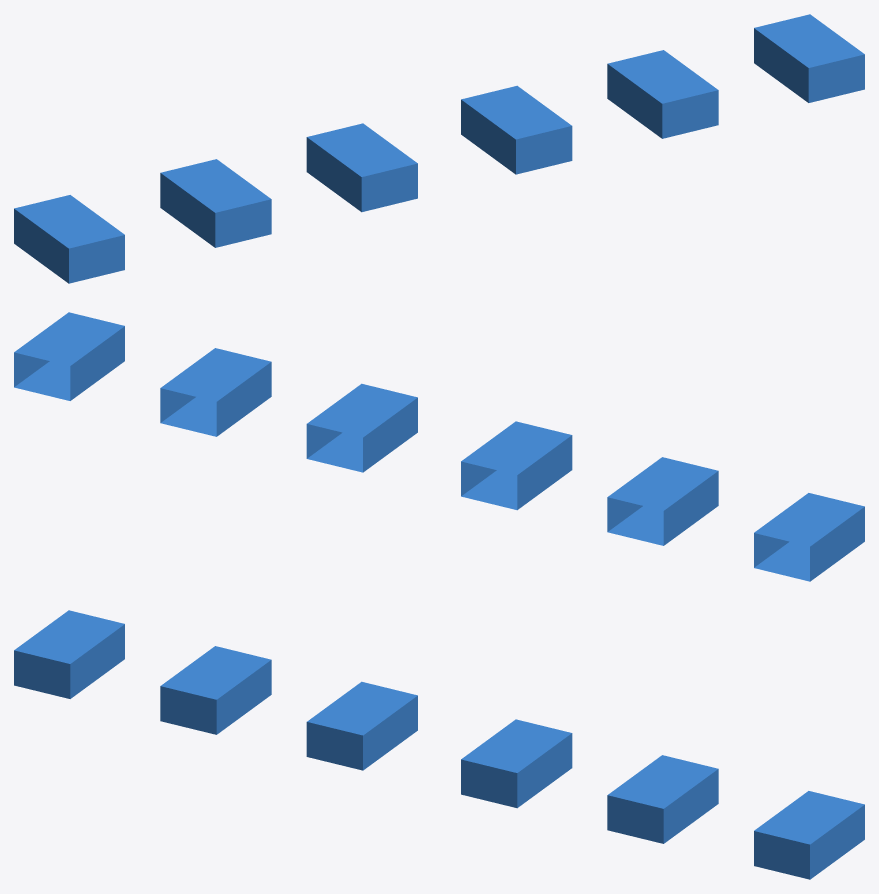
Rendered from Collision_Roof_FrontSupports.fbx.
The picture shows the model from 3 angles, top to bottom: view 1: azimuth 30°, elevation 25°; view 2: azimuth 150°, elevation 25°; view 3: azimuth 330°, elevation 25°; orthographic projection.
Visible parts, largest first — view 1: UCX_Roof_FrontSupports_1; view 2: UCX_Roof_FrontSupports_1; view 3: UCX_Roof_FrontSupports_1.
Part boxes in pixels (x1,y1,x2,y2): UCX_Roof_FrontSupports_1: (14,14,864,283); UCX_Roof_FrontSupports_1: (14,312,864,581); UCX_Roof_FrontSupports_1: (14,610,864,879).
Bounding box in the file's own units: 549 × 23.12 × 65.45.
